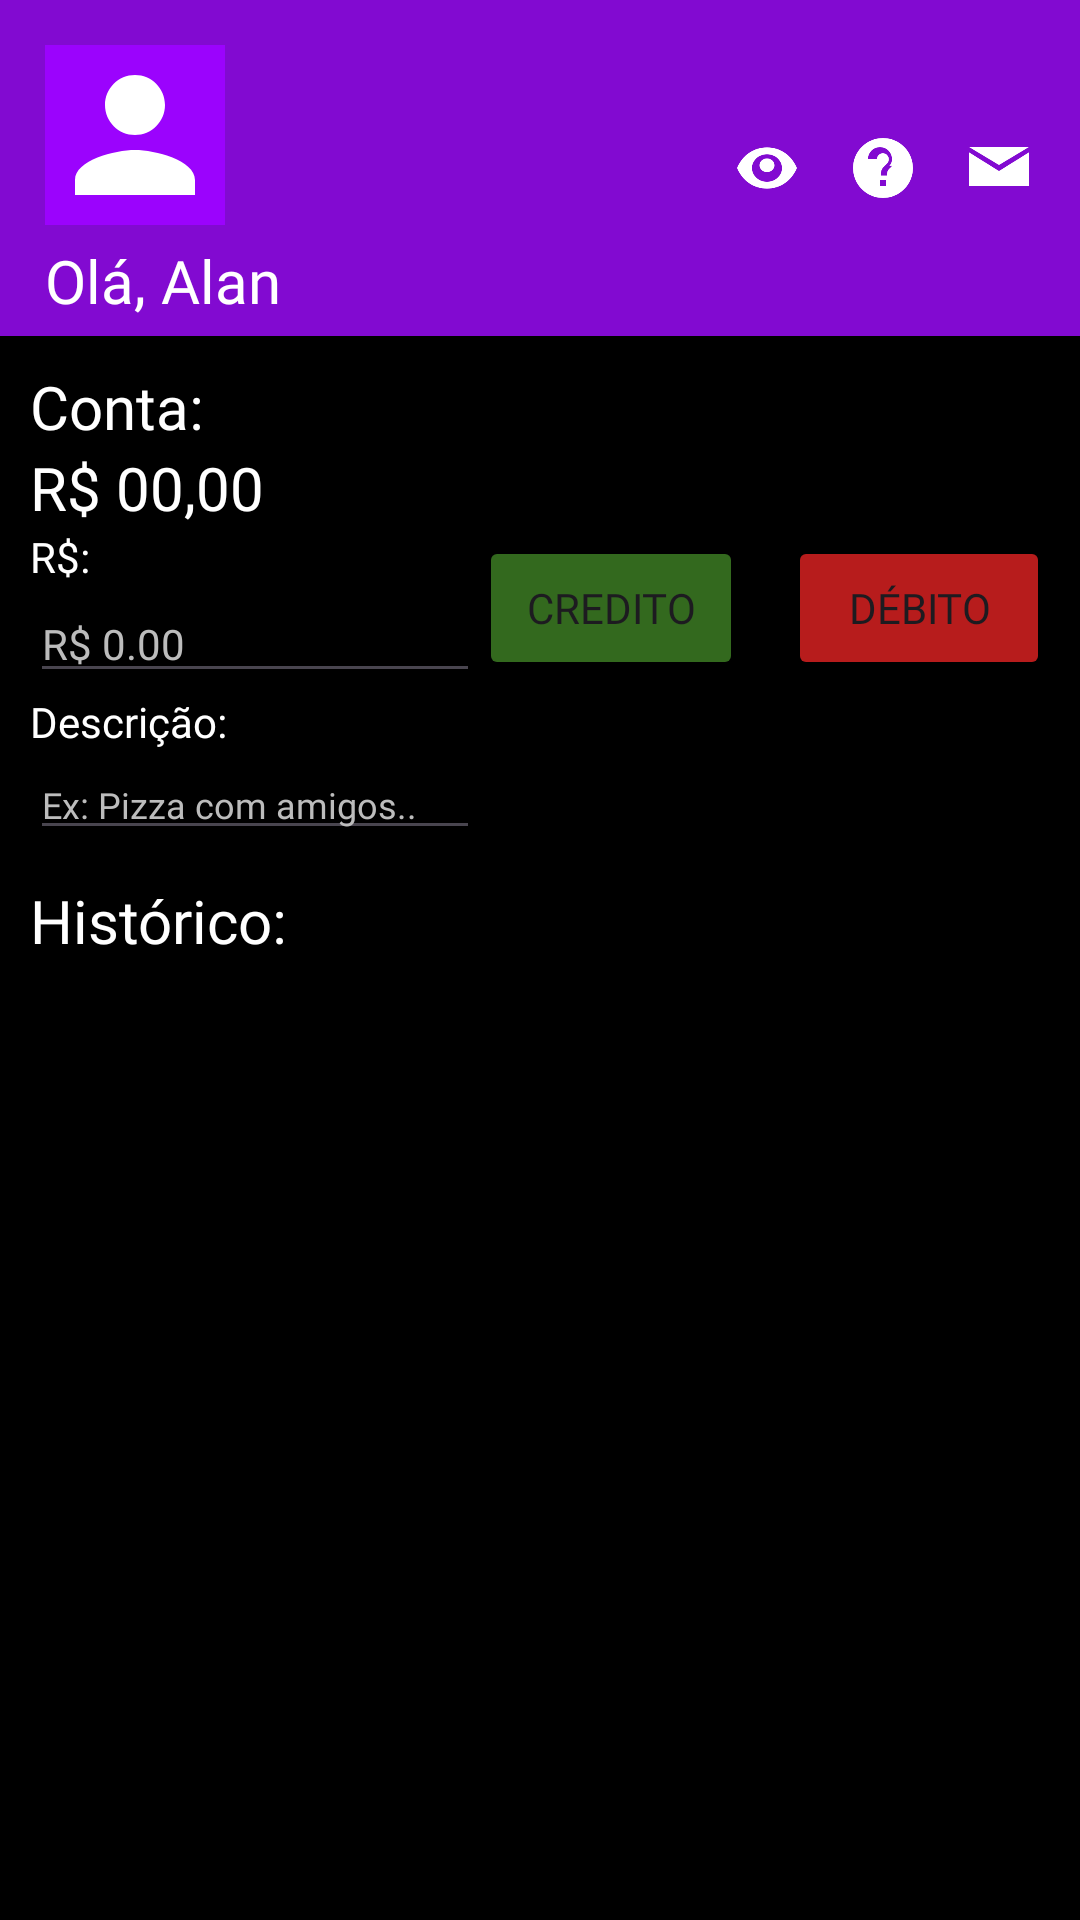

Point at icon controls on the screen. Image size 1080px x 1920px, points as (x=x, y=y).
user: (x=135, y=135)
